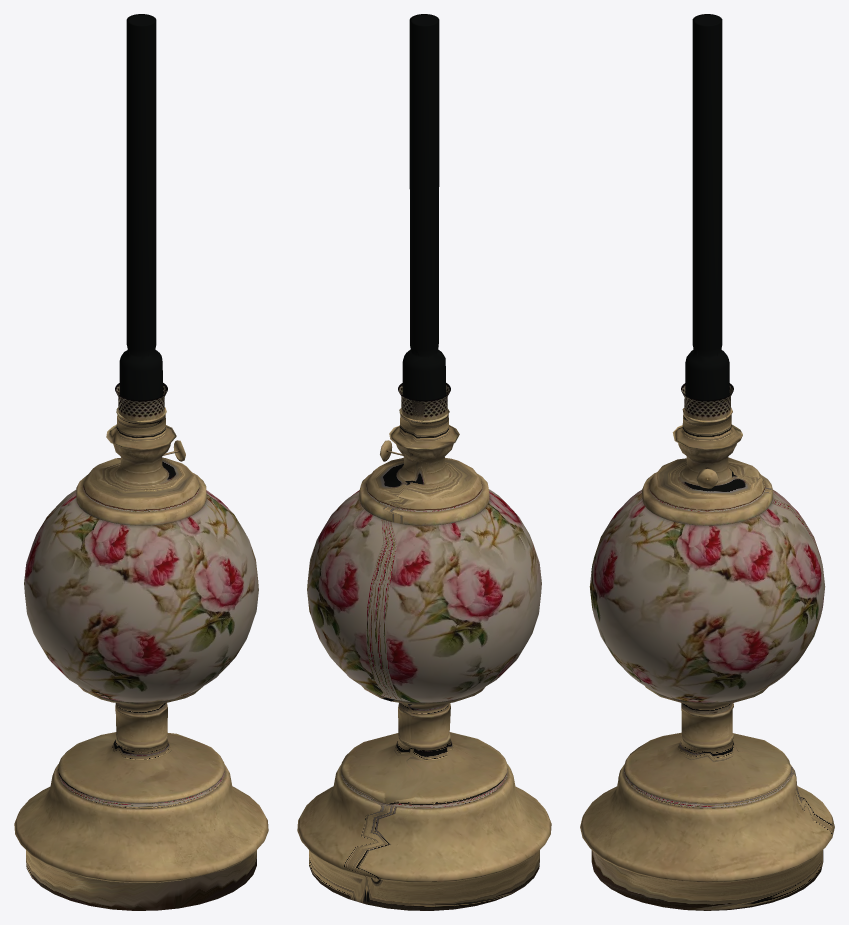
The model's file is vintage_oil_lamp.glb.
3 renders of one model, left to right at view 1: azimuth 30°, elevation 25°; view 2: azimuth 150°, elevation 25°; view 3: azimuth 270°, elevation 25°, orthographic.
Parts seen in each view (by area): view 1: vintage_oil_lamp, vintage_oil_lamp_glass; view 2: vintage_oil_lamp, vintage_oil_lamp_glass; view 3: vintage_oil_lamp, vintage_oil_lamp_glass.
Boxes of the visible parts, box(x1,y1,x2,y2) form: vintage_oil_lamp: box(14, 407, 268, 910); vintage_oil_lamp_glass: box(115, 14, 167, 421); vintage_oil_lamp: box(297, 408, 551, 910); vintage_oil_lamp_glass: box(398, 14, 450, 420); vintage_oil_lamp: box(580, 407, 834, 910); vintage_oil_lamp_glass: box(681, 14, 733, 420).
Size of the model in its own units: 0.22 by 0.8016 by 0.22.
Materials: 3 (3 with a texture image).
